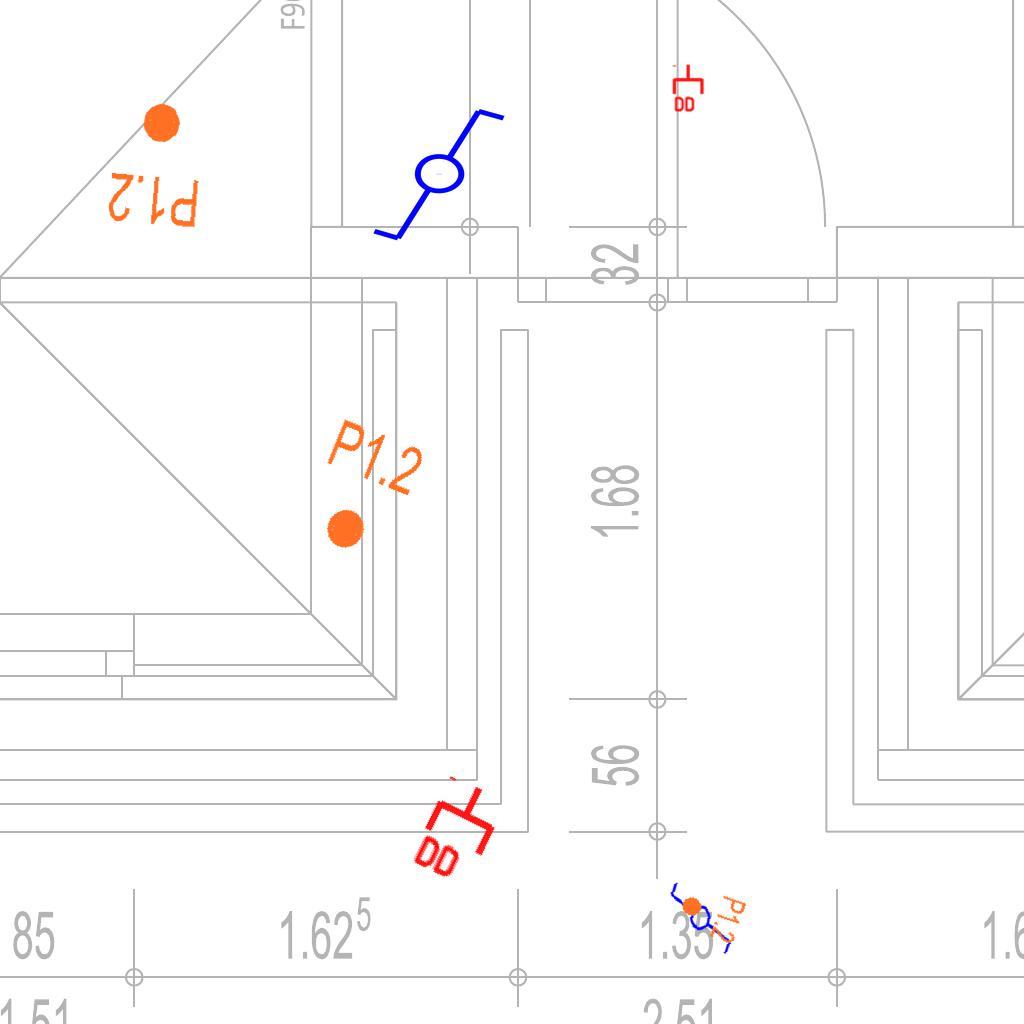Datenanschluss_zweifach: (405, 771, 514, 894), (672, 63, 706, 114)
Downlight_LED_Einbauleuchten_Flur: (295, 414, 430, 568), (104, 96, 209, 232), (673, 881, 749, 947)
Wechselschalter: (369, 104, 526, 248), (661, 870, 743, 958)
